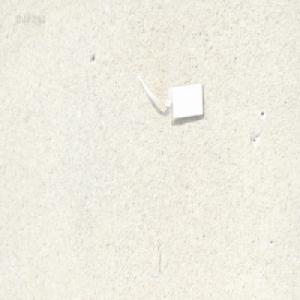LuggageTag: (134, 65, 204, 123)
